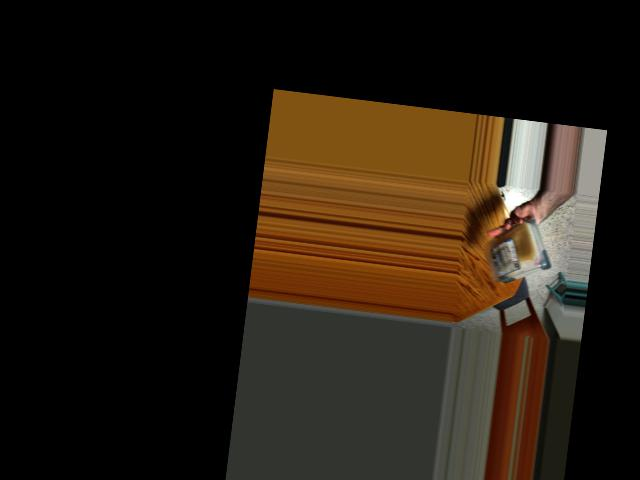cheese: (488, 215, 552, 293)
